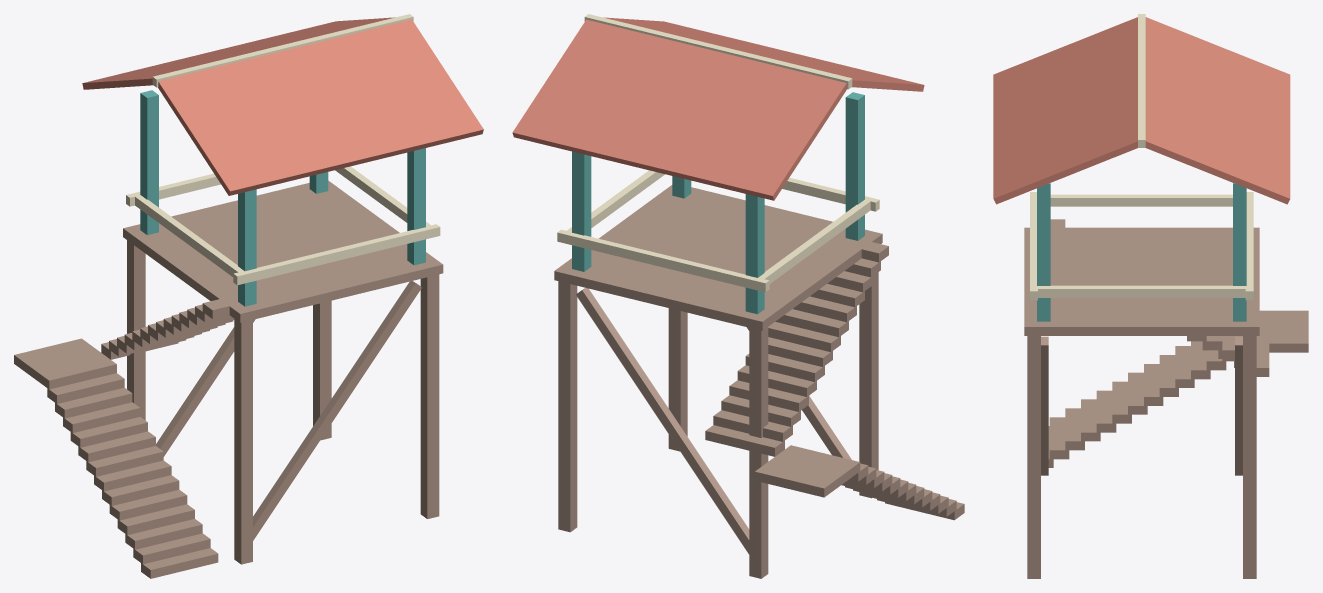
Rendered from 07_LookoutTower.glb.
The picture shows the model from 3 angles, left to right: view 1: azimuth 30°, elevation 25°; view 2: azimuth 150°, elevation 25°; view 3: azimuth 270°, elevation 25°; orthographic projection. The views are drawn at different scales.
Visible parts, largest first — view 1: 07_LookoutTower; view 2: 07_LookoutTower; view 3: 07_LookoutTower.
Boxes of the visible parts, box(x1,y1,x2,y2) form: 07_LookoutTower: box(14, 14, 483, 578); 07_LookoutTower: box(512, 14, 964, 578); 07_LookoutTower: box(993, 14, 1308, 578).
Size of the model in its own units: 18.6 by 25.52 by 16.07.
